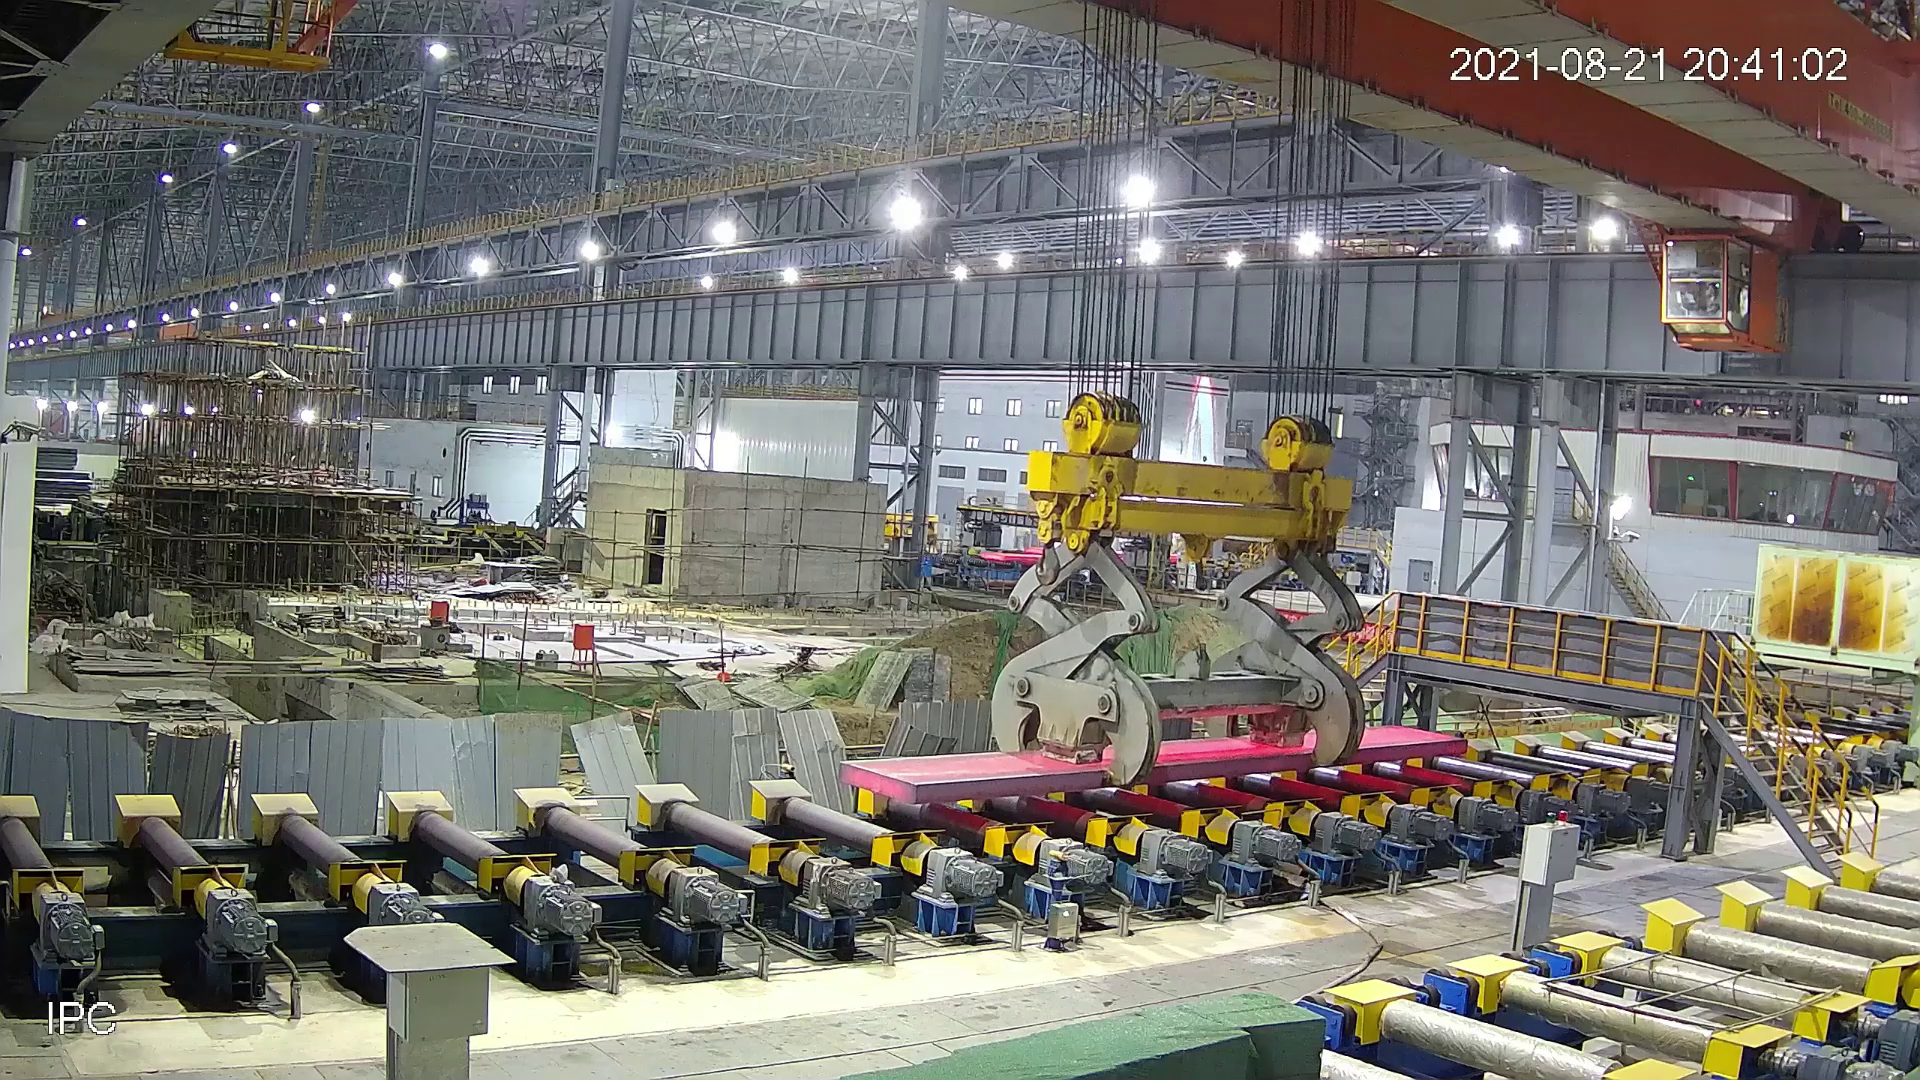craneandslab: (833, 389, 1473, 811)
